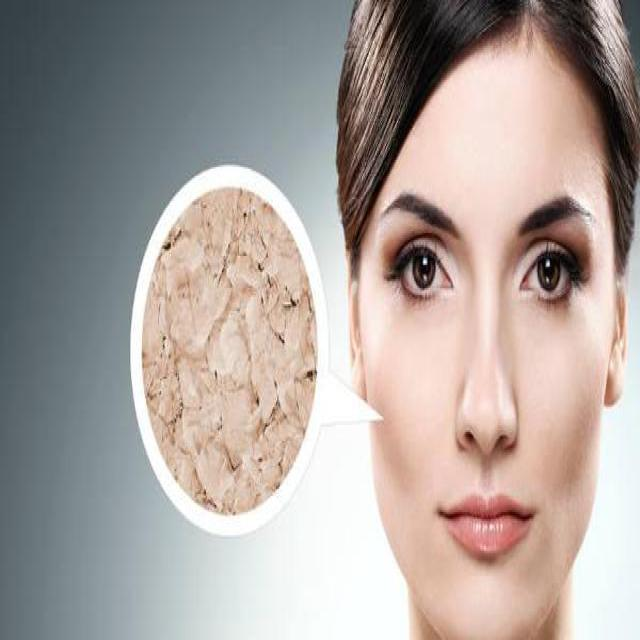Dry-Skin: (143, 190, 318, 515)
